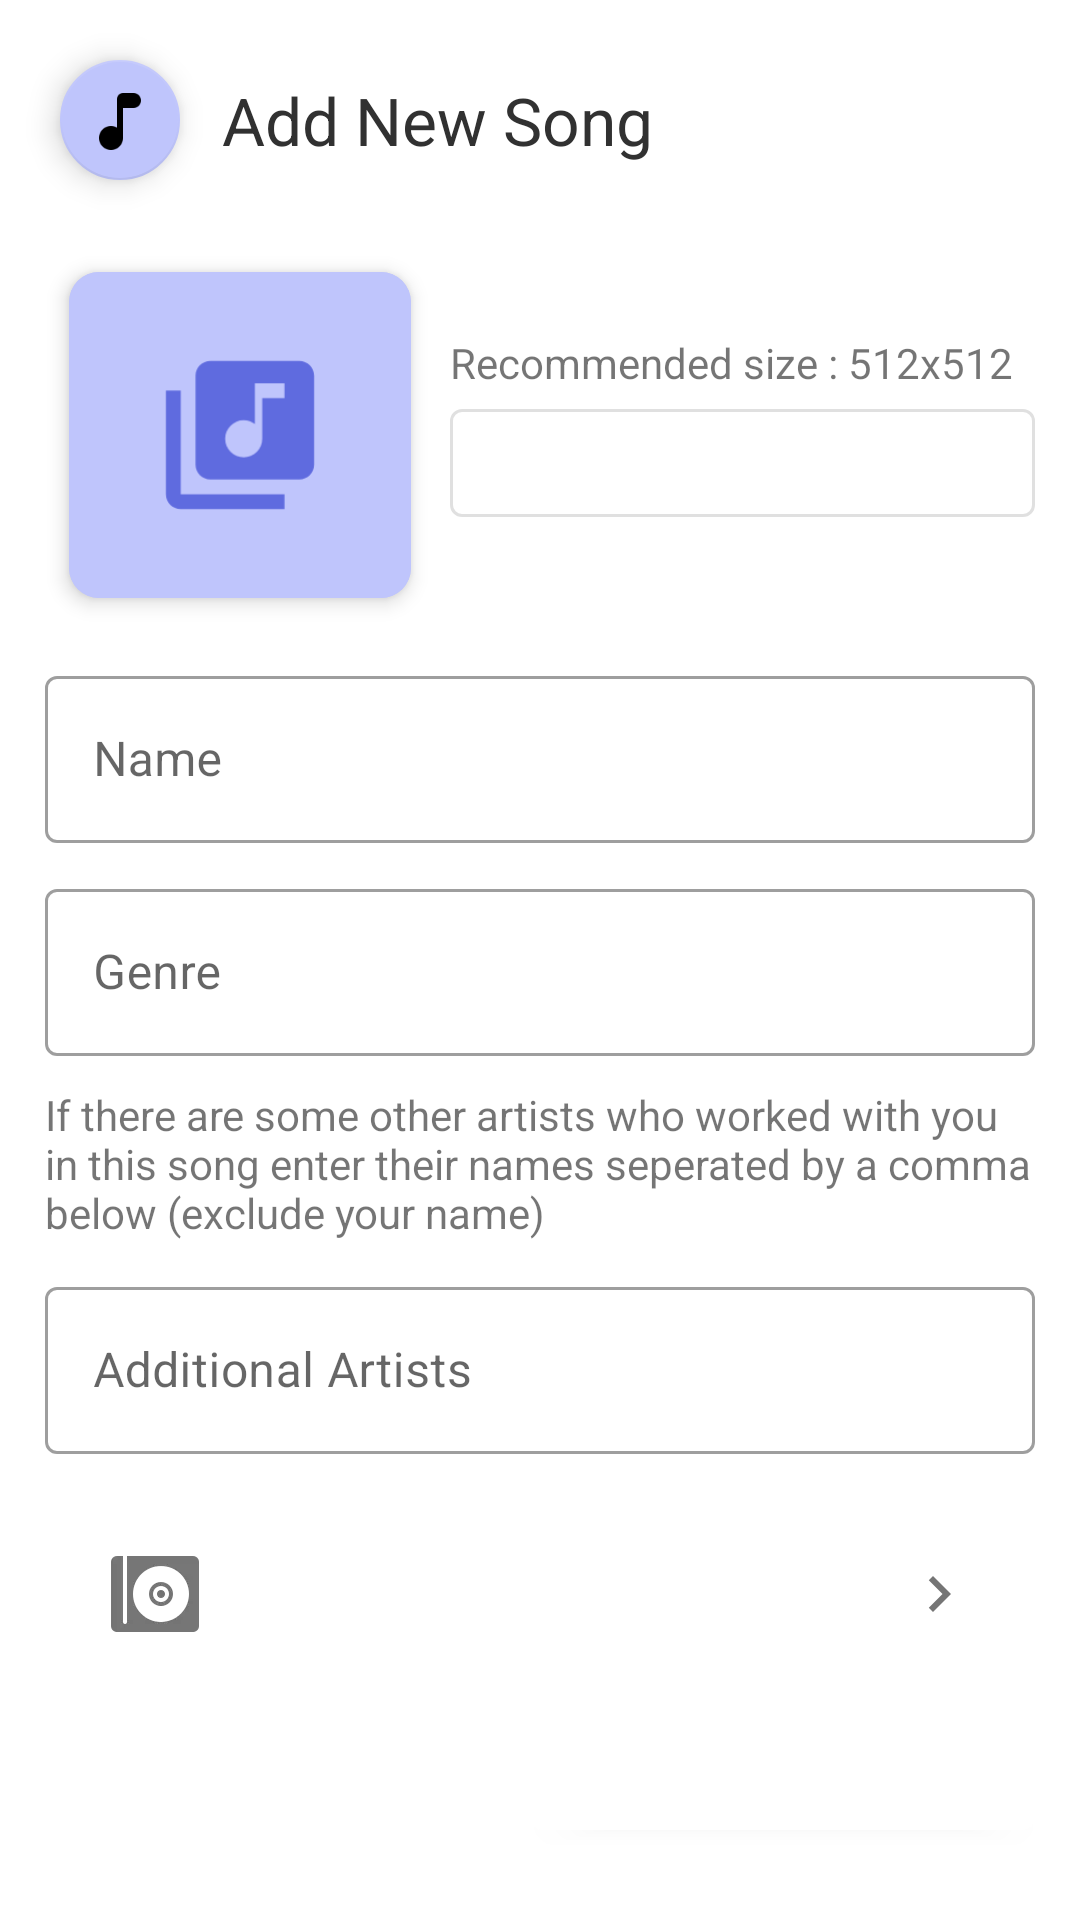

Locate icon controls on the screen. Image size 1080×1920, boxes as (x1, y1, x2, y2).
chevron right: (929, 1576, 951, 1612)
music: (58, 60, 180, 180)
music album: (111, 1556, 199, 1632)
song art: (69, 272, 411, 598)
